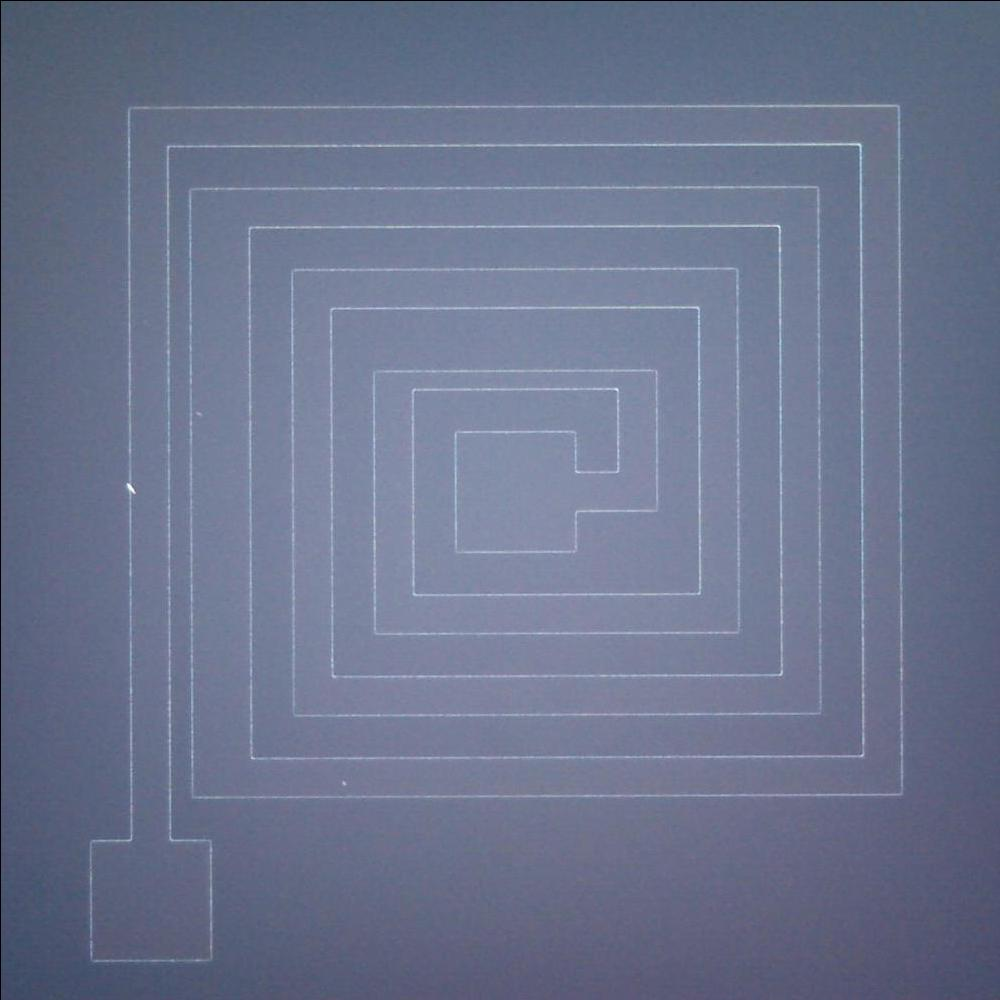dot: (326, 770, 358, 794)
fat circuit: (182, 172, 256, 804)
spot: (118, 473, 144, 502)
thin circuit: (360, 356, 668, 402)
